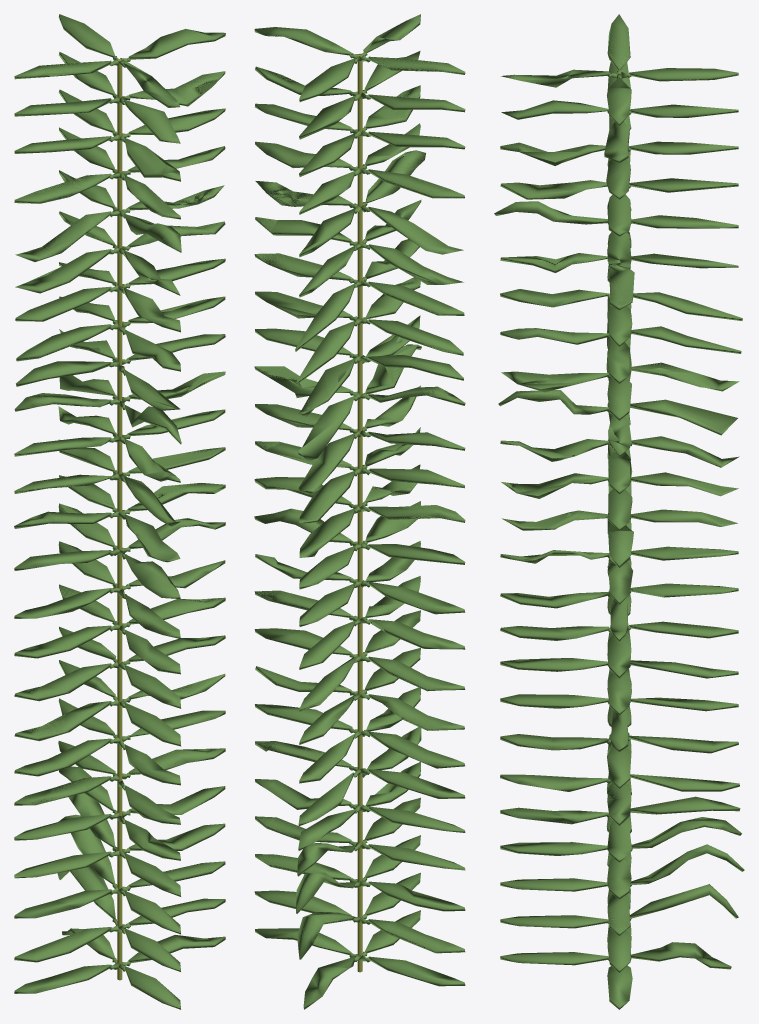
Rendered from Kelp 1.obj.
3 renders of one model, left to right at view 1: azimuth 30°, elevation 25°; view 2: azimuth 150°, elevation 25°; view 3: azimuth 270°, elevation 25°, orthographic. The views are drawn at different scales.
Visible parts, largest first — view 1: Kelp 1, Cylinder; view 2: Kelp 1, Cylinder; view 3: Kelp 1, Cylinder.
Part boxes in pixels (bbox=[...]): Kelp 1: bbox=[14, 14, 225, 1009]; Cylinder: bbox=[14, 58, 225, 980]; Kelp 1: bbox=[254, 14, 465, 1009]; Cylinder: bbox=[255, 33, 465, 972]; Kelp 1: bbox=[494, 14, 744, 1009]; Cylinder: bbox=[502, 25, 738, 933].
Size of the model in its own units: 0.2414 by 1.01 by 0.2529.
